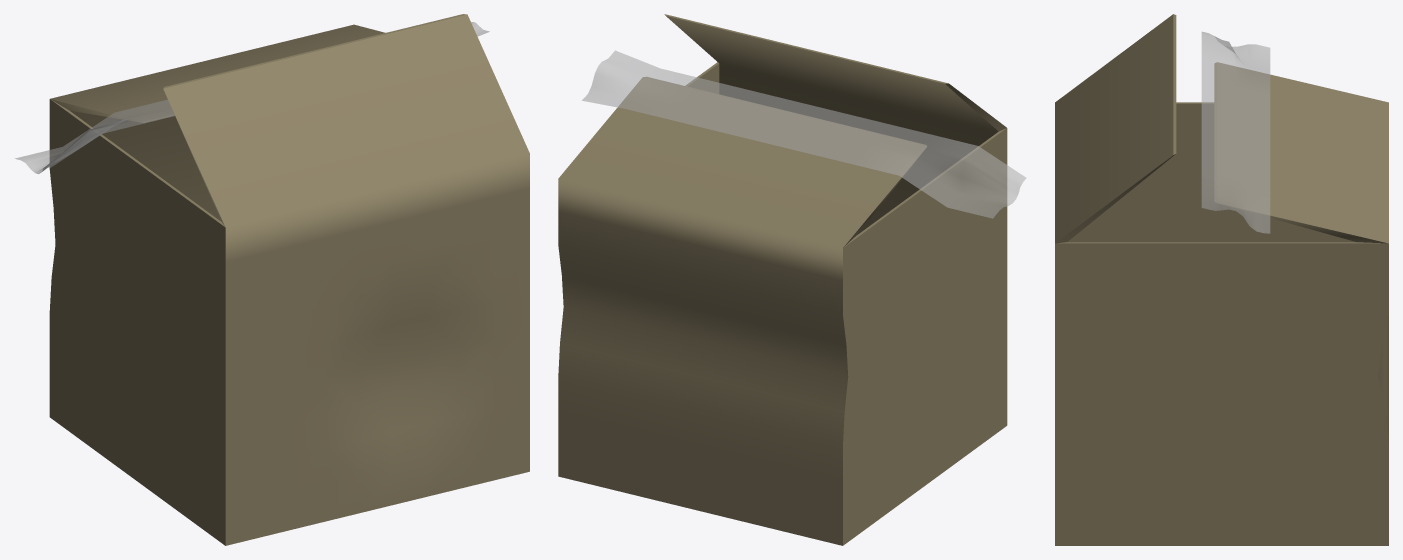
3 views of the same model, side by side, from view 1: azimuth 30°, elevation 25°; view 2: azimuth 150°, elevation 25°; view 3: azimuth 270°, elevation 25° (orthographic). The views are drawn at different scales.
Parts seen in each view (by area): view 1: box; view 2: box; view 3: box.
Boxes of the visible parts, x1,y1,x2,y2 form: box: (15,14,529,545); box: (558,14,1026,545); box: (1055,14,1388,545).
Size of the model in its own units: 1.45 by 1.29 by 1.
